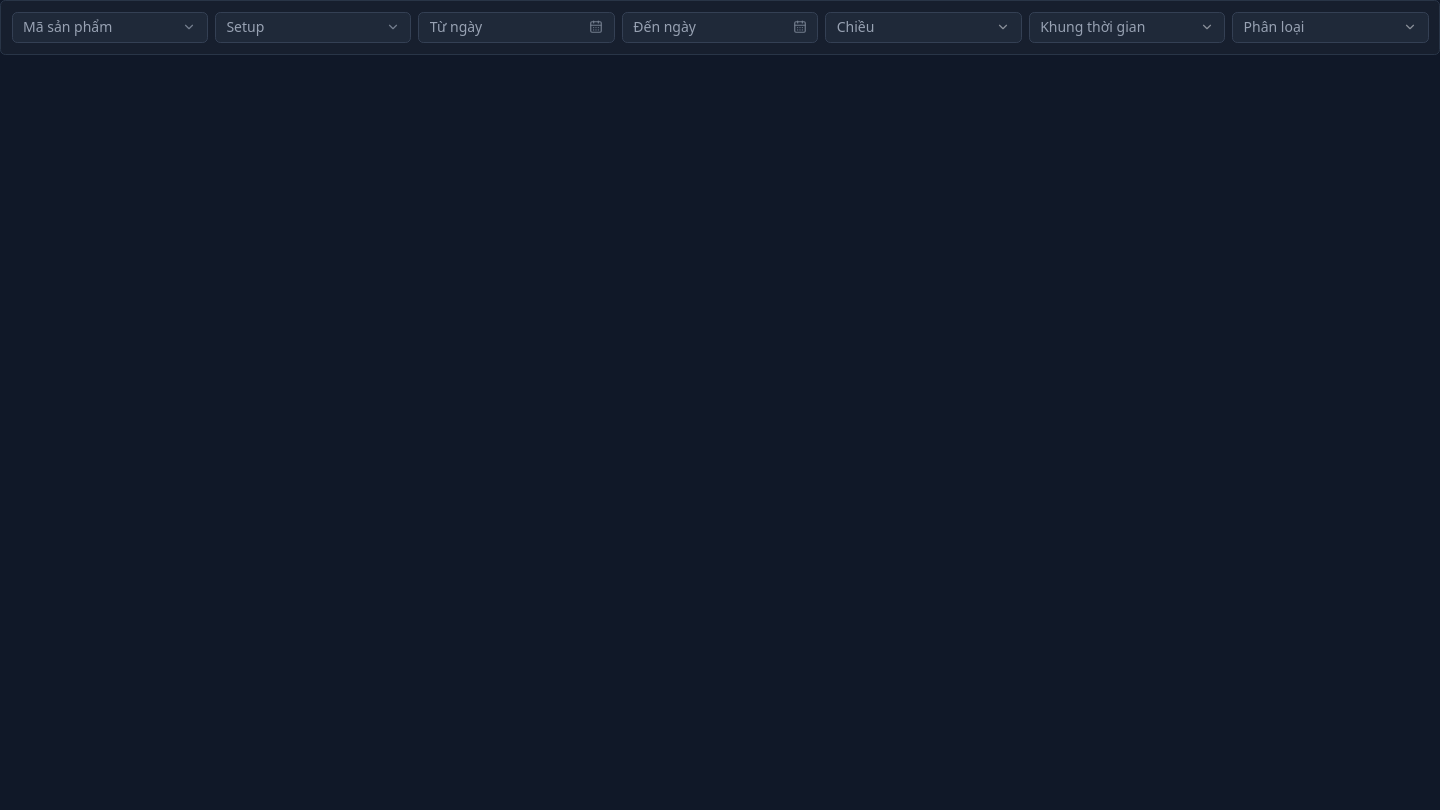
Scenario: gõ vào ô tìm thu hẹp danh sách mã sản phẩm
Click the dropdown labelled "Mã sản phẩm": (110, 27) [12, 12, 208, 43]
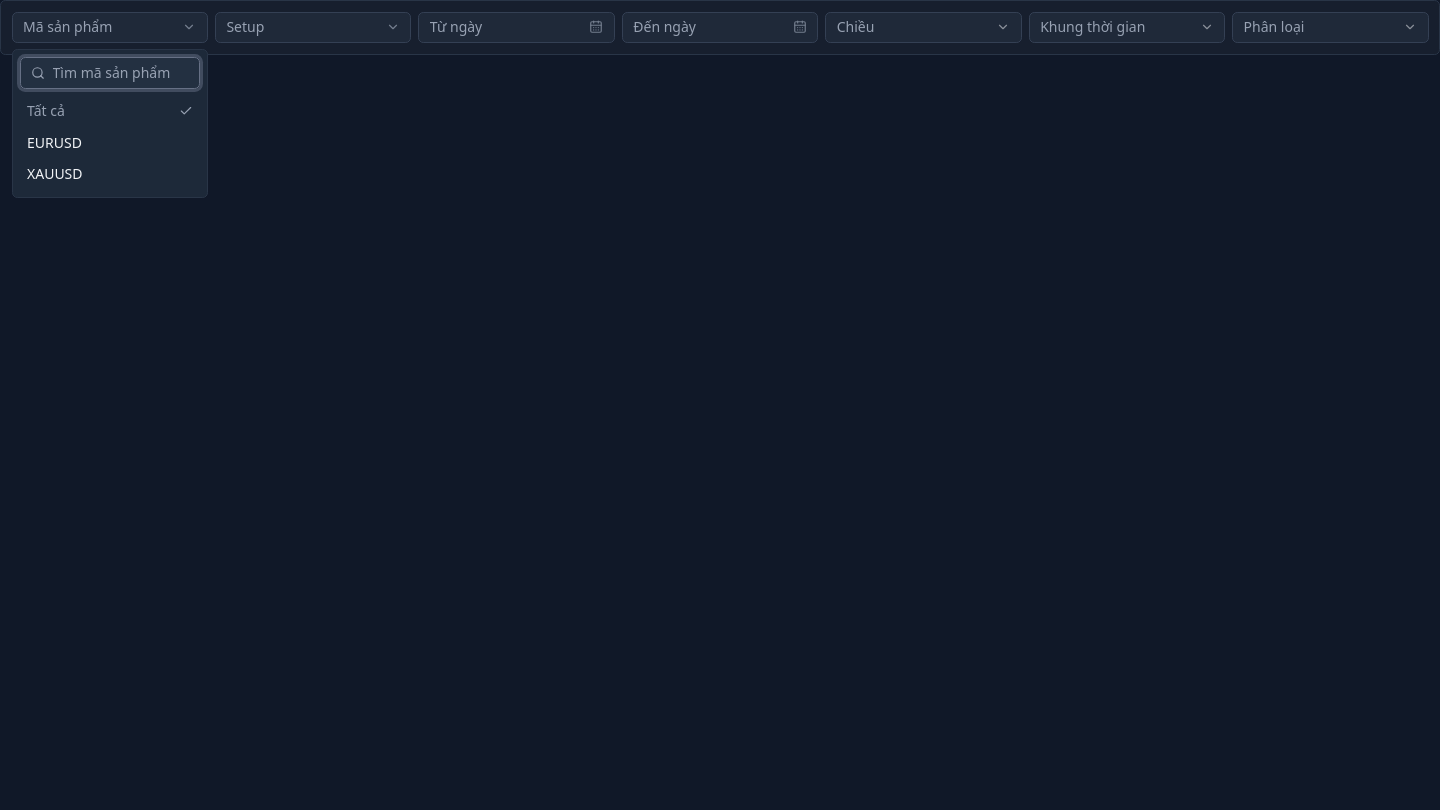
In the search field labelled "Tìm mã sản phẩm": (110, 73) [20, 57, 200, 88], type "eur"
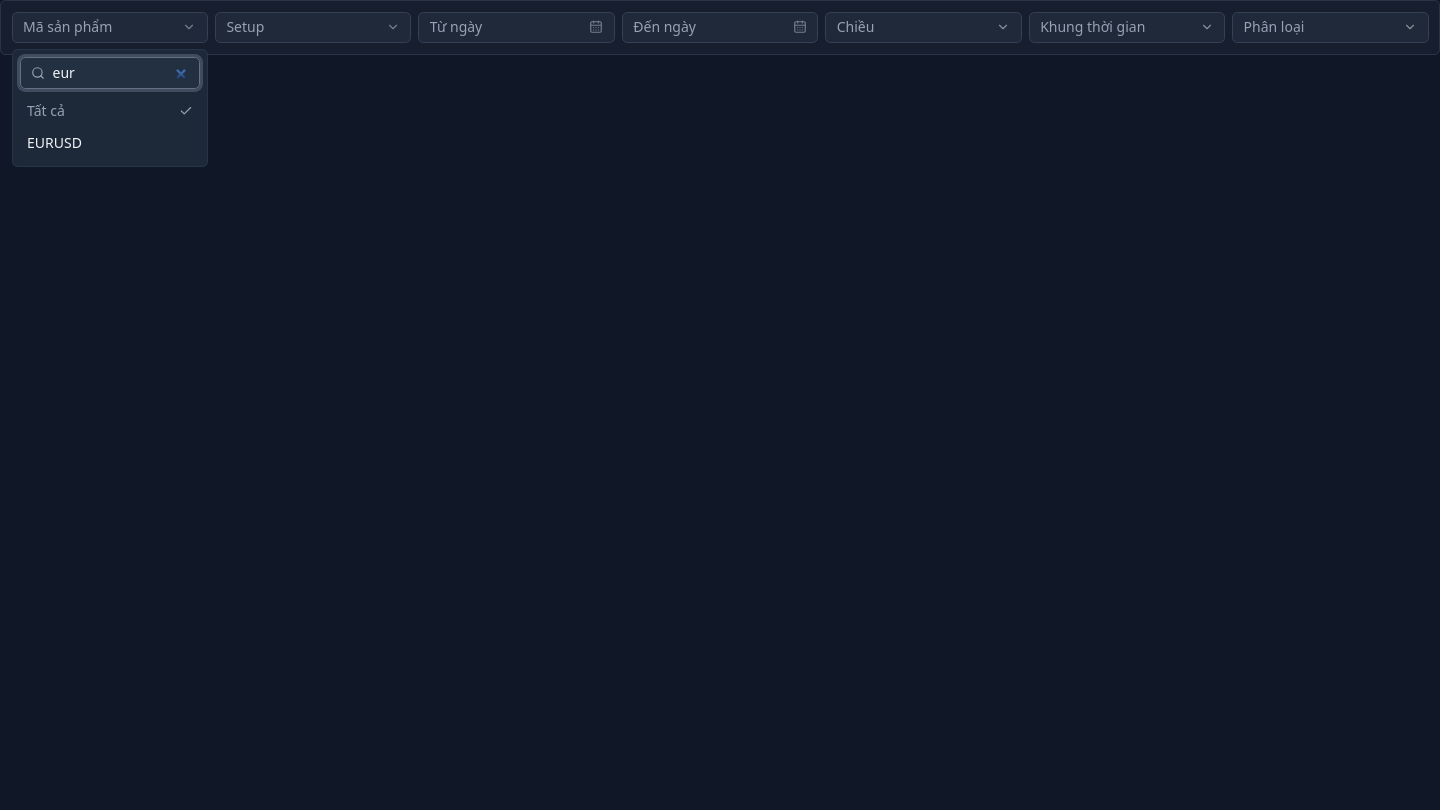
Expected: the option "EURUSD" is shown, [20, 127, 200, 158]
Expected: the option "XAUUSD" is gone
